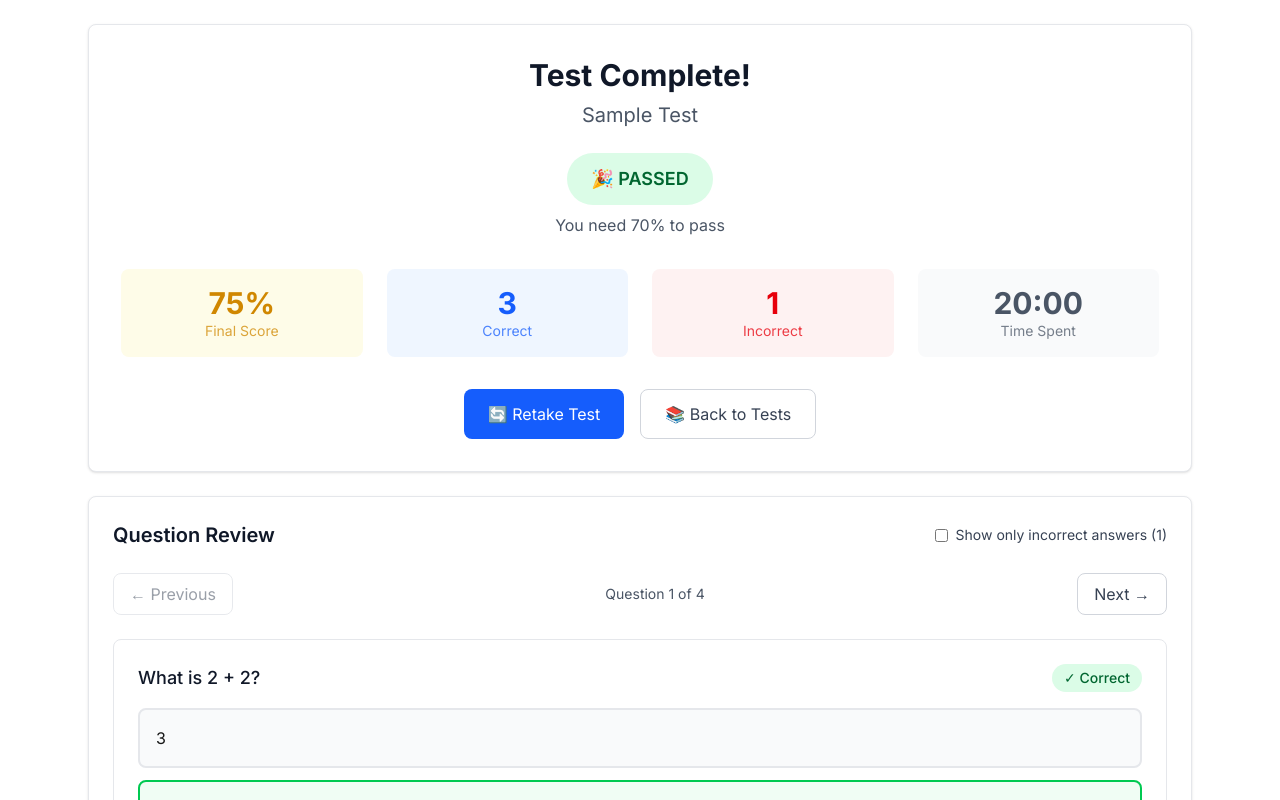
Test case: TestReviewComponent › displays incorrect indicators for wrong answers
The width and height of the screenshot is (1280, 800).
# Navigate to incorrect question
Click the button "Next →" at (1122,594), box [1077,573,1167,615]
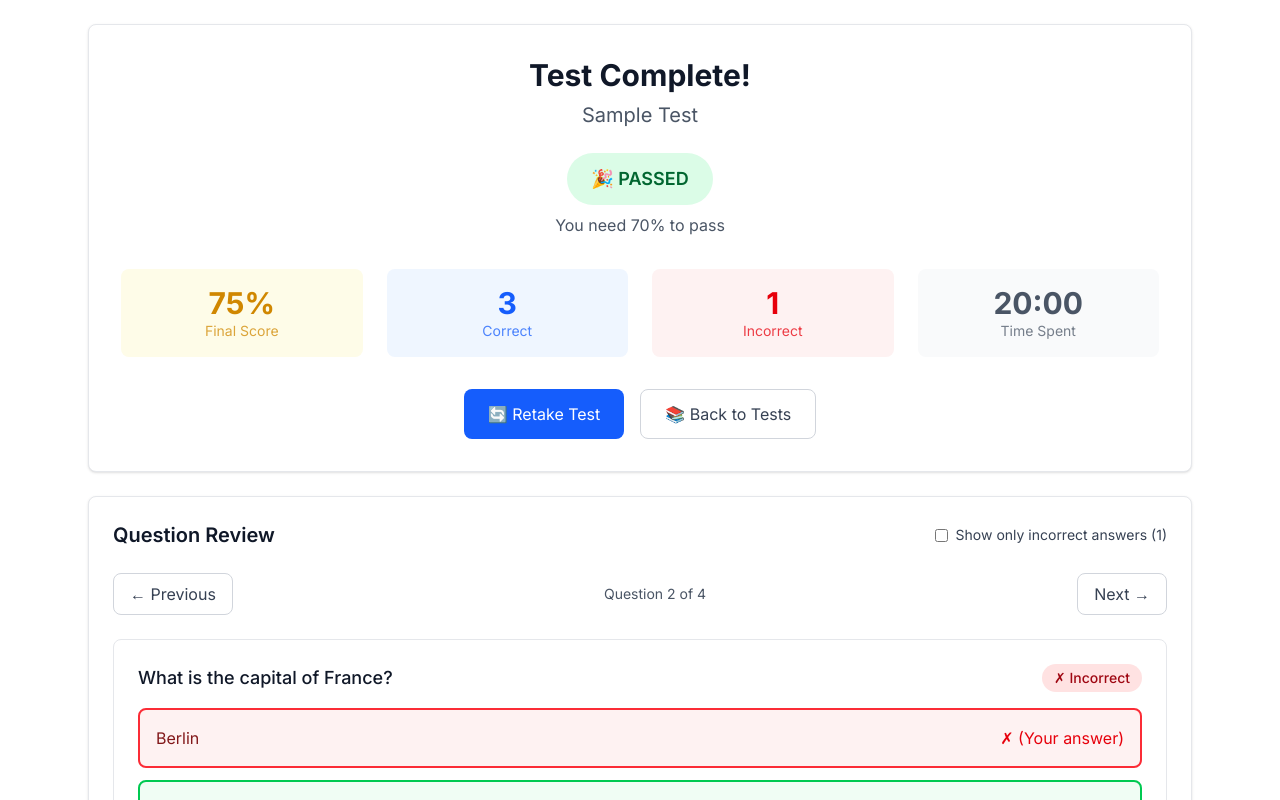
Check: the text "✗ Incorrect" is shown, box [1042,664,1142,692]
